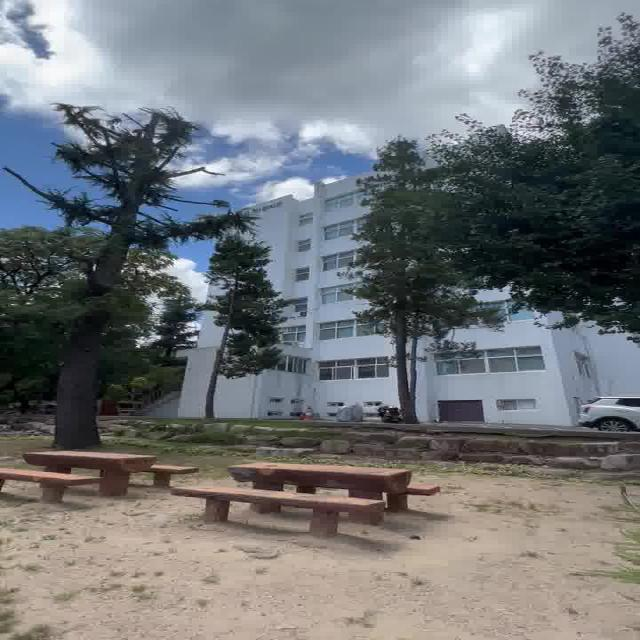building: (285, 177, 375, 423)
